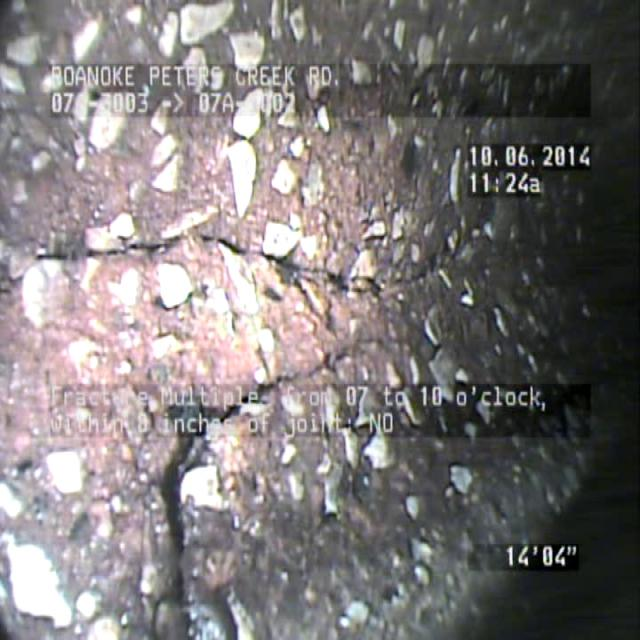Fracture: (56, 180, 503, 391)
